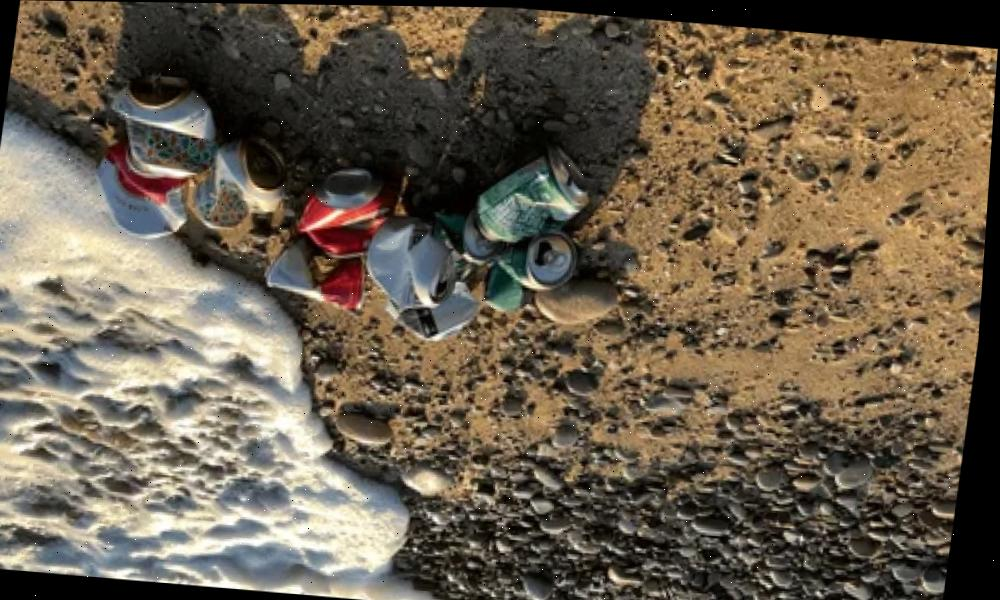can: (100, 59, 232, 194), (469, 141, 604, 250), (89, 121, 198, 246), (288, 154, 400, 274), (190, 132, 293, 241), (365, 205, 469, 310), (369, 253, 487, 343), (478, 228, 584, 323), (269, 245, 374, 329)
